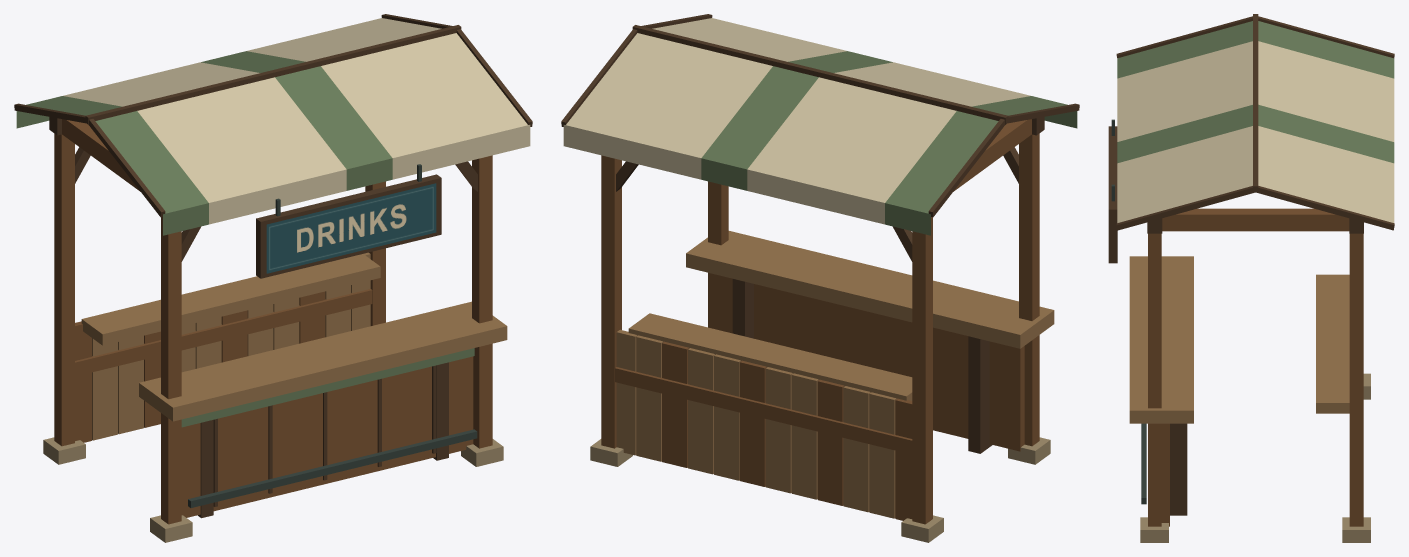
Rendered from lwf_drinks_stall_prototype_v1.glb.
3 renders of one model, left to right at view 1: azimuth 30°, elevation 25°; view 2: azimuth 150°, elevation 25°; view 3: azimuth 270°, elevation 25°, orthographic. The views are drawn at different scales.
Visible parts, largest first — view 1: LWF_DrinksStallV1_Canopy, LWF_DrinksStallV1_Counter, LWF_DrinksStallV1_Structure, LWF_DrinksStallV1_Sign; view 2: LWF_DrinksStallV1_Canopy, LWF_DrinksStallV1_Structure, LWF_DrinksStallV1_Counter; view 3: LWF_DrinksStallV1_Canopy, LWF_DrinksStallV1_Counter, LWF_DrinksStallV1_Structure, LWF_DrinksStallV1_Sign.
Part boxes in pixels (x1,y1,x2,y2): LWF_DrinksStallV1_Canopy: [14, 14, 532, 235]; LWF_DrinksStallV1_Counter: [81, 254, 507, 518]; LWF_DrinksStallV1_Structure: [43, 117, 503, 542]; LWF_DrinksStallV1_Sign: [256, 164, 441, 278]; LWF_DrinksStallV1_Canopy: [561, 14, 1079, 235]; LWF_DrinksStallV1_Structure: [590, 117, 1050, 542]; LWF_DrinksStallV1_Counter: [628, 231, 1054, 453]; LWF_DrinksStallV1_Canopy: [1116, 14, 1394, 230]; LWF_DrinksStallV1_Counter: [1129, 256, 1349, 526]; LWF_DrinksStallV1_Structure: [1140, 208, 1370, 542]; LWF_DrinksStallV1_Sign: [1108, 119, 1117, 263].
Size of the model in its own units: 3.09 by 3.05 by 2.17.
8 materials, 1 textured.
